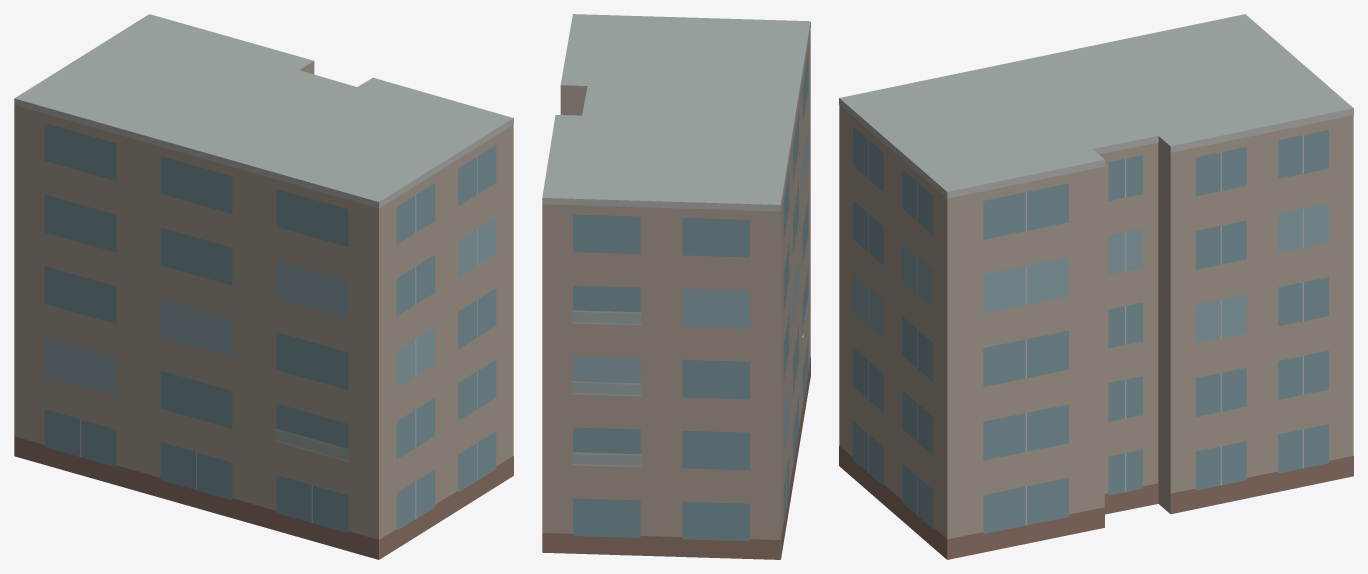
Rendered from survey-upis-32703203.glb.
The picture shows the model from 3 angles, left to right: view 1: azimuth 30°, elevation 25°; view 2: azimuth 150°, elevation 25°; view 3: azimuth 270°, elevation 25°; orthographic projection. The views are drawn at different scales.
Visible parts, largest first — view 1: survey-upis-32703203.tmp; view 2: survey-upis-32703203.tmp; view 3: survey-upis-32703203.tmp.
Boxes of the visible parts, left/top/right/bottom form: survey-upis-32703203.tmp: left=14, top=14, right=513, bottom=559; survey-upis-32703203.tmp: left=542, top=14, right=810, bottom=559; survey-upis-32703203.tmp: left=839, top=14, right=1353, bottom=559.
Size of the model in its own units: 14.01 by 13.5 by 17.12.
